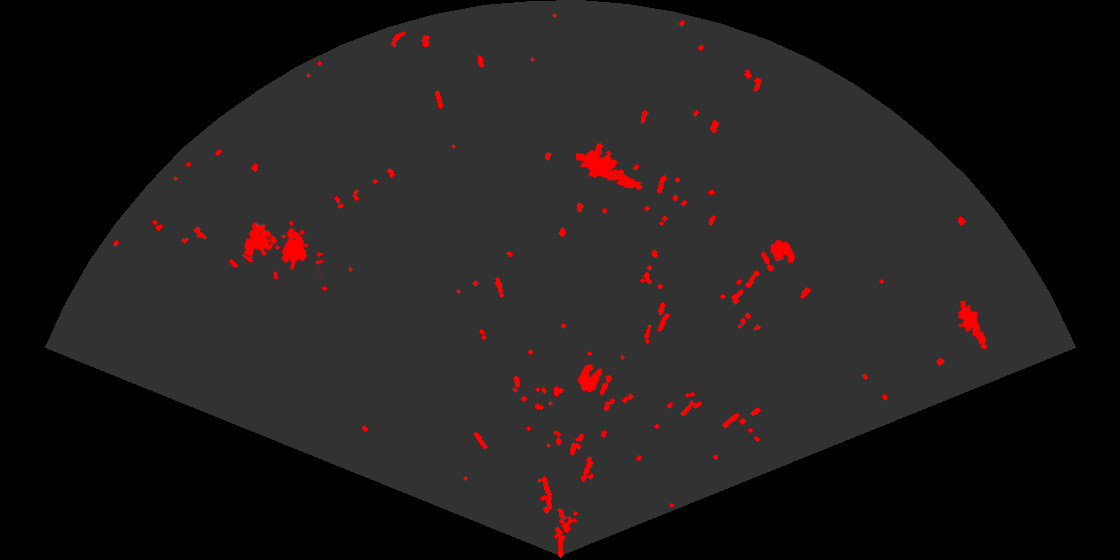ball: (759, 238, 797, 274), (576, 362, 614, 397)
cage: (242, 219, 323, 279)
frogman: (576, 148, 644, 191), (956, 301, 988, 352)
